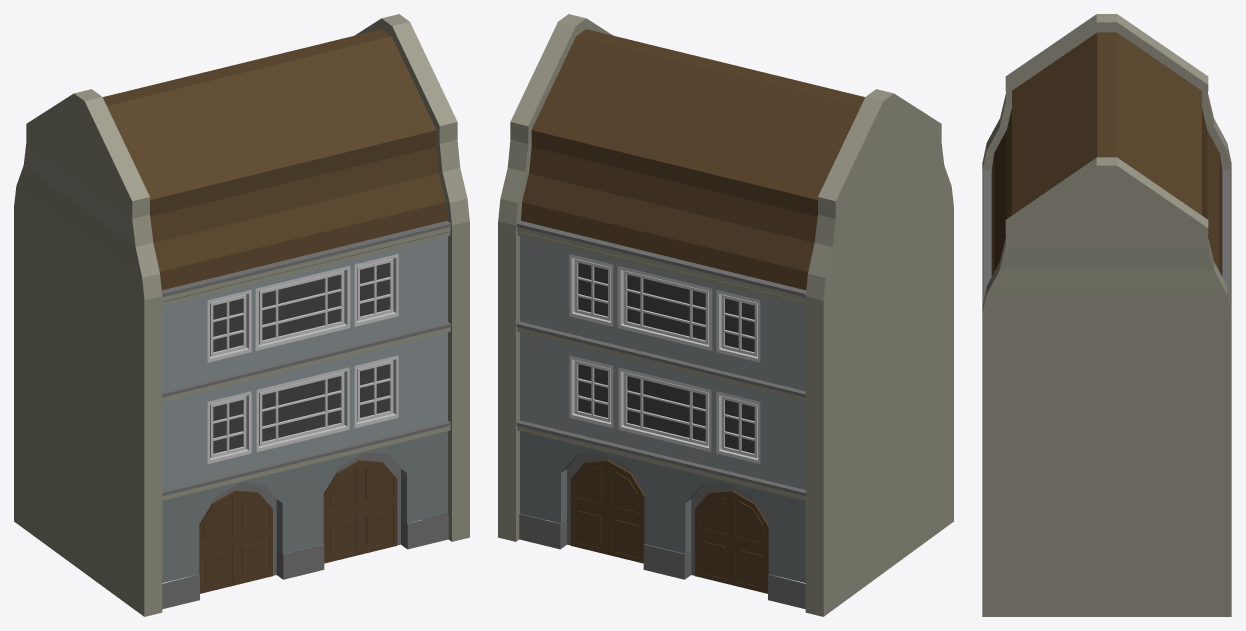
Rendered from Building2_Small.glb.
3 renders of one model, left to right at view 1: azimuth 30°, elevation 25°; view 2: azimuth 150°, elevation 25°; view 3: azimuth 270°, elevation 25°, orthographic. The views are drawn at different scales.
Parts seen in each view (by area): view 1: Building2_Small; view 2: Building2_Small; view 3: Building2_Small.
Boxes of the visible parts, x1=… form: Building2_Small: x1=14, y1=14, x2=469, y2=616; Building2_Small: x1=498, y1=14, x2=953, y2=616; Building2_Small: x1=982, y1=14, x2=1231, y2=616.
Bounding box in the file's own units: 3.58 × 4.97 × 2.49.
